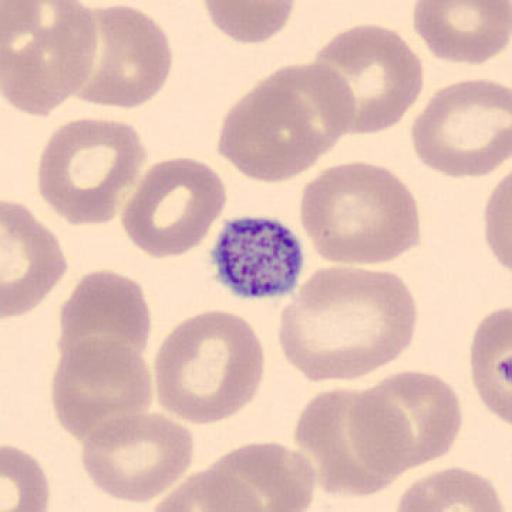Platelet: (208, 212, 308, 301)
RBC: (215, 63, 355, 185), (278, 263, 419, 383), (152, 307, 266, 426), (299, 159, 421, 267), (292, 386, 409, 498), (312, 22, 426, 136), (35, 116, 148, 230), (348, 370, 464, 476), (49, 333, 153, 446), (217, 80, 329, 184), (0, 0, 98, 116), (121, 155, 227, 260), (71, 4, 174, 110), (409, 77, 512, 180), (80, 411, 194, 504), (57, 267, 152, 376), (255, 62, 358, 154), (201, 440, 318, 512), (2, 197, 68, 319), (411, 0, 511, 66), (147, 467, 270, 512), (469, 305, 512, 427), (394, 465, 505, 512), (202, 0, 297, 44), (2, 443, 52, 512), (483, 167, 512, 274), (1, 0, 44, 49)
